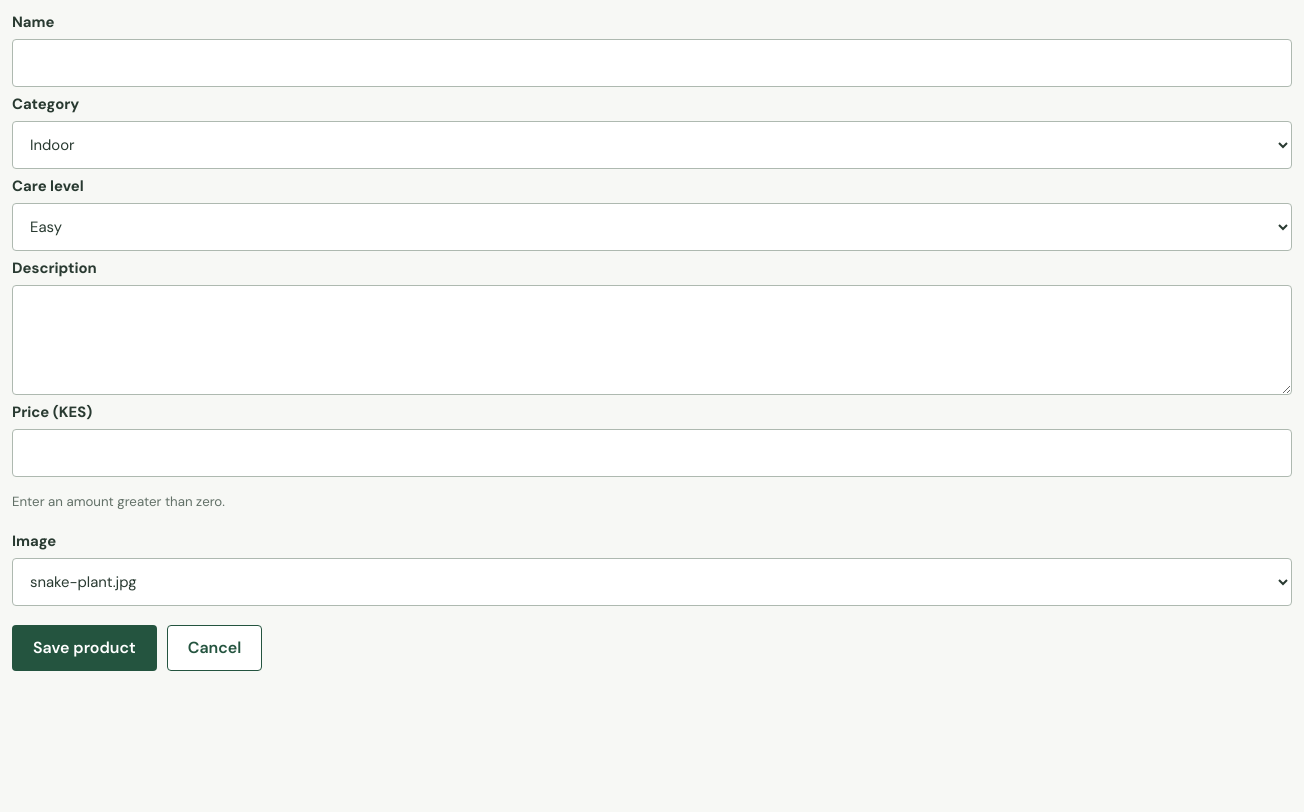
Test: ProductForm › keeps the typed input and shows an error when saving fails
Type "Rubber Plant" into the field labelled "Name". click: (652, 63)
box: [12,39,1292,87]
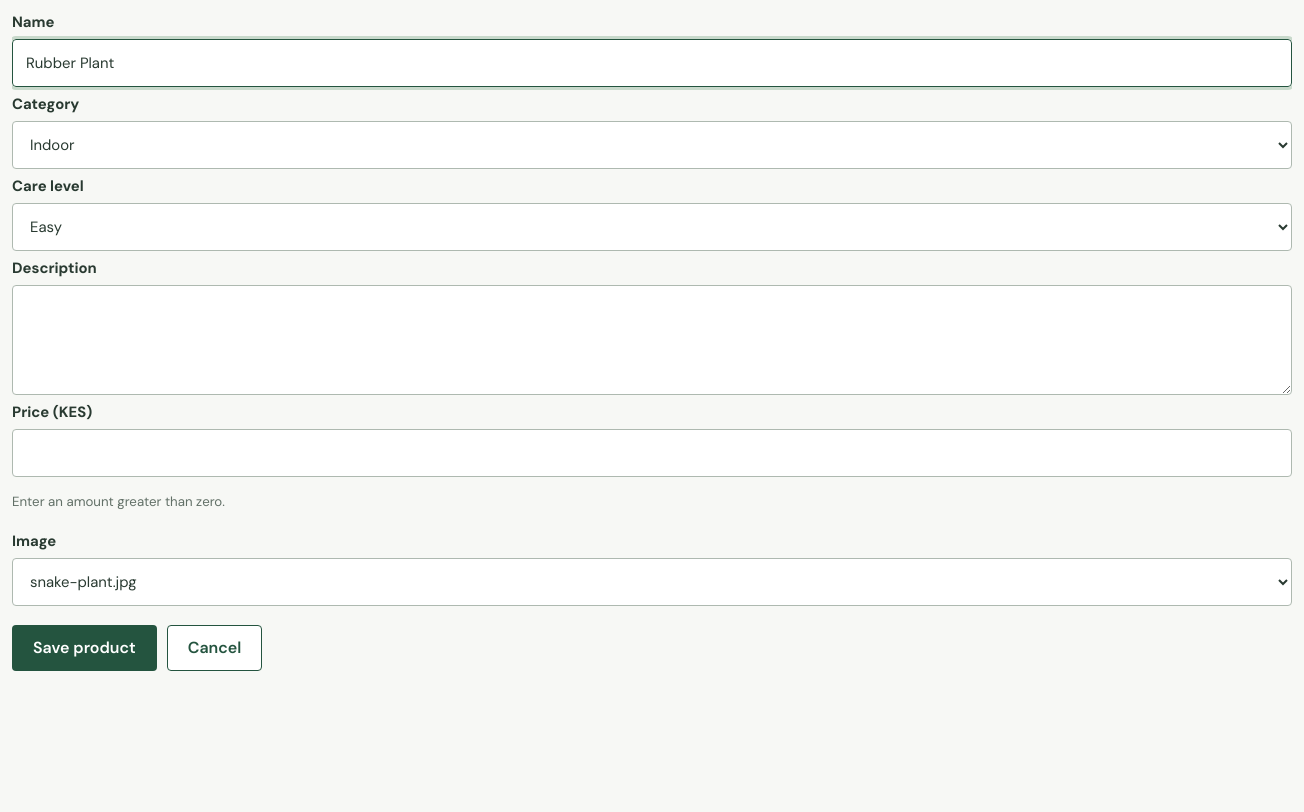
Type "A glossy, easy-going plant." into the text box labelled "Description". click: (652, 340)
box: [12,285,1292,395]
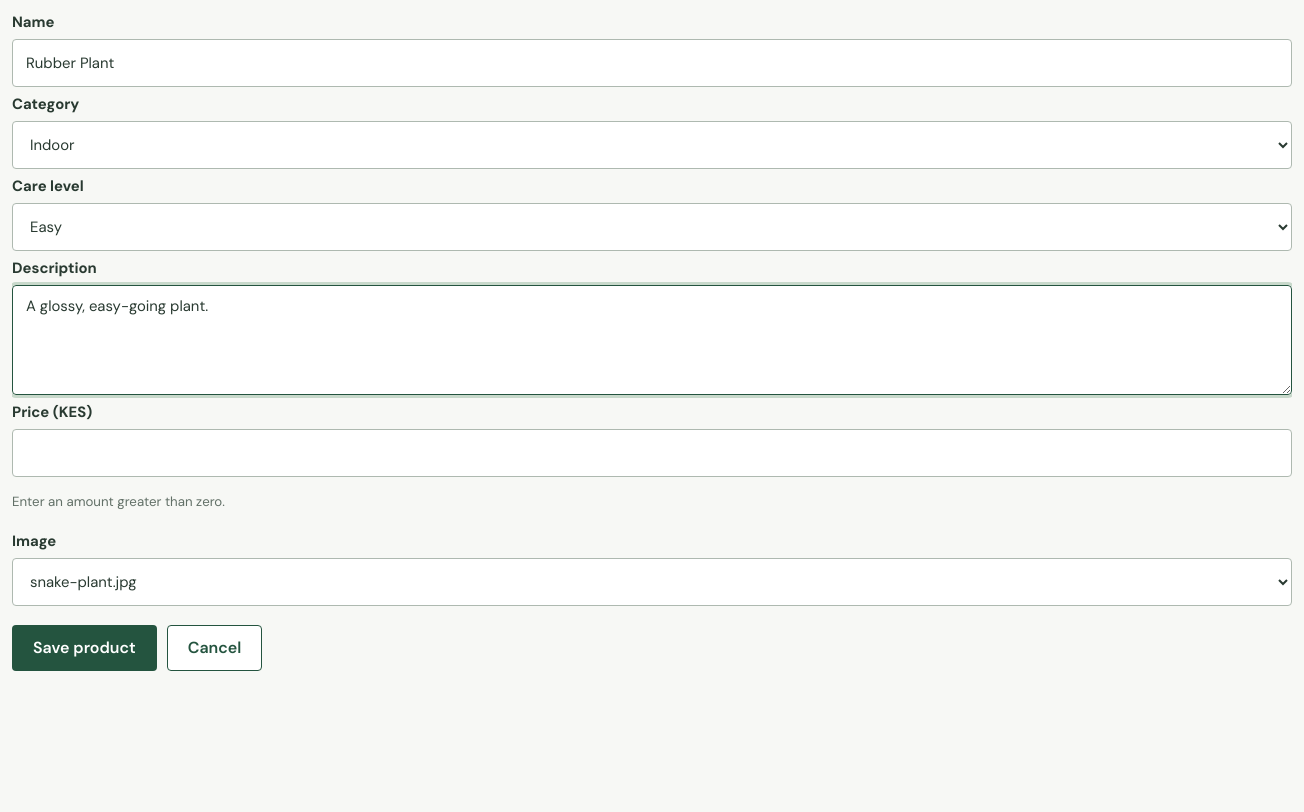
Type "1500" into the number field labelled "Price (KES)". click: (652, 453)
box: [12,429,1292,477]
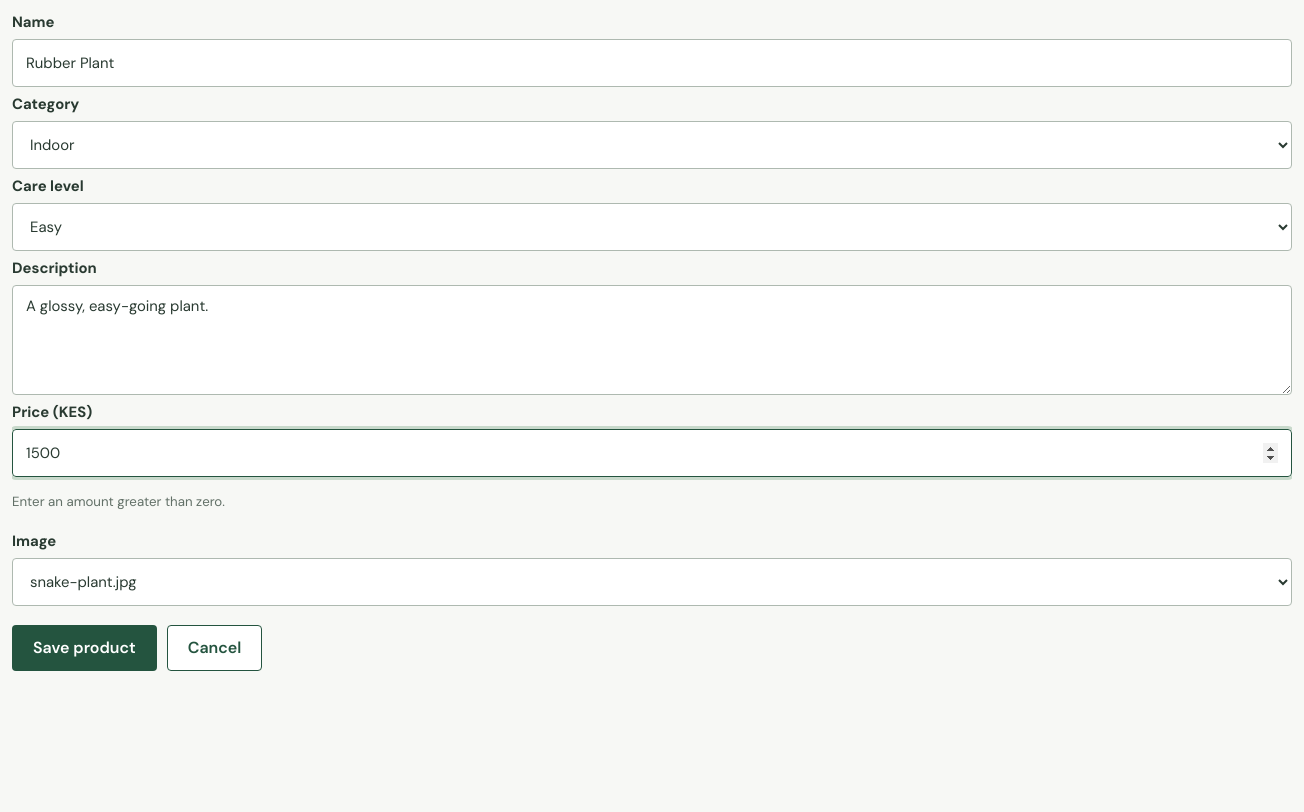
Click the button "Save product". click: (84, 648)
box: [12,625,157,671]
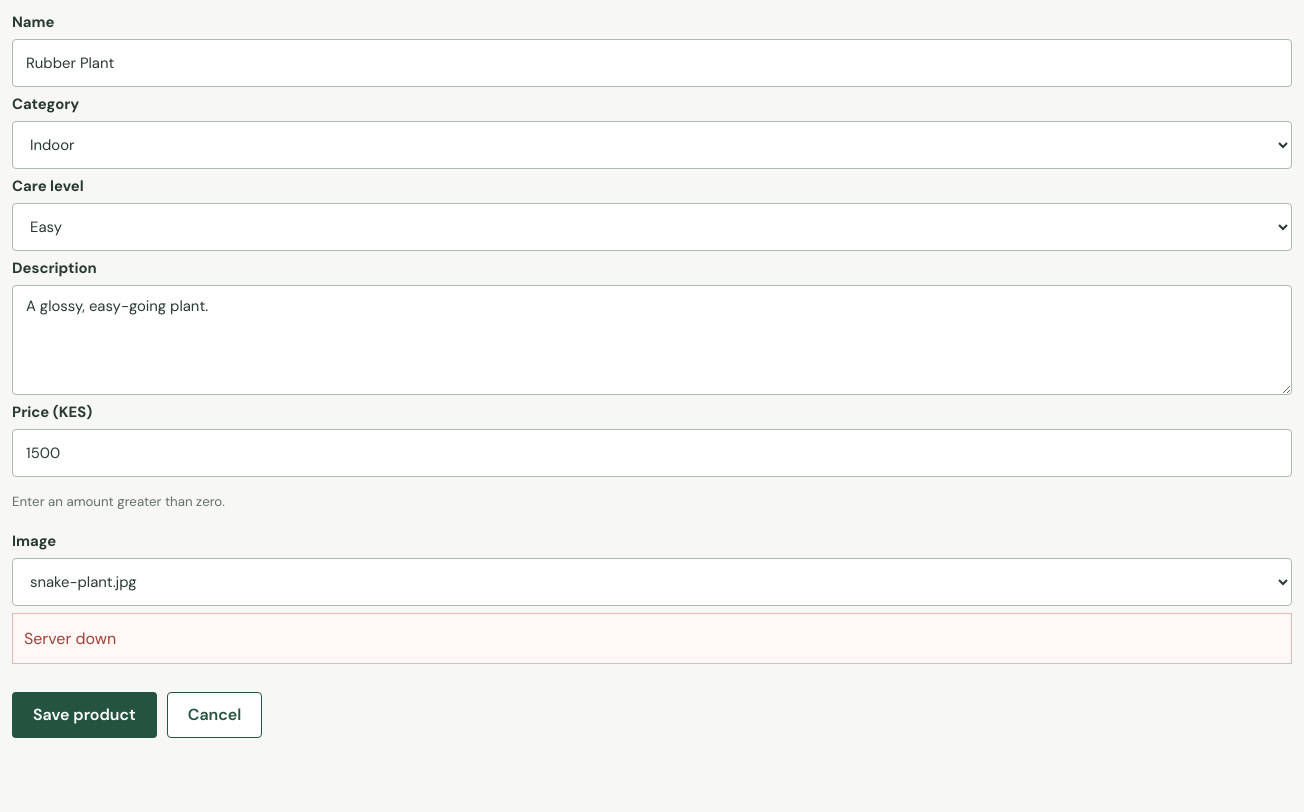
Expected: the message reads "Server down", [24,628,116,649]
